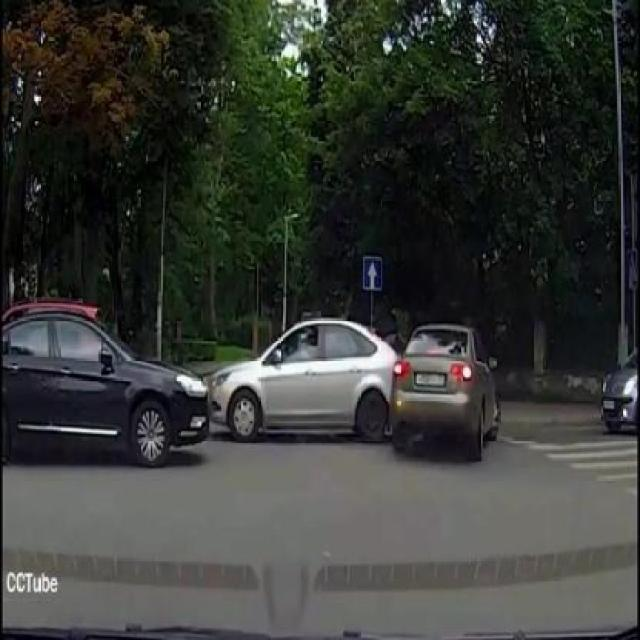accident: (241, 296, 491, 446)
